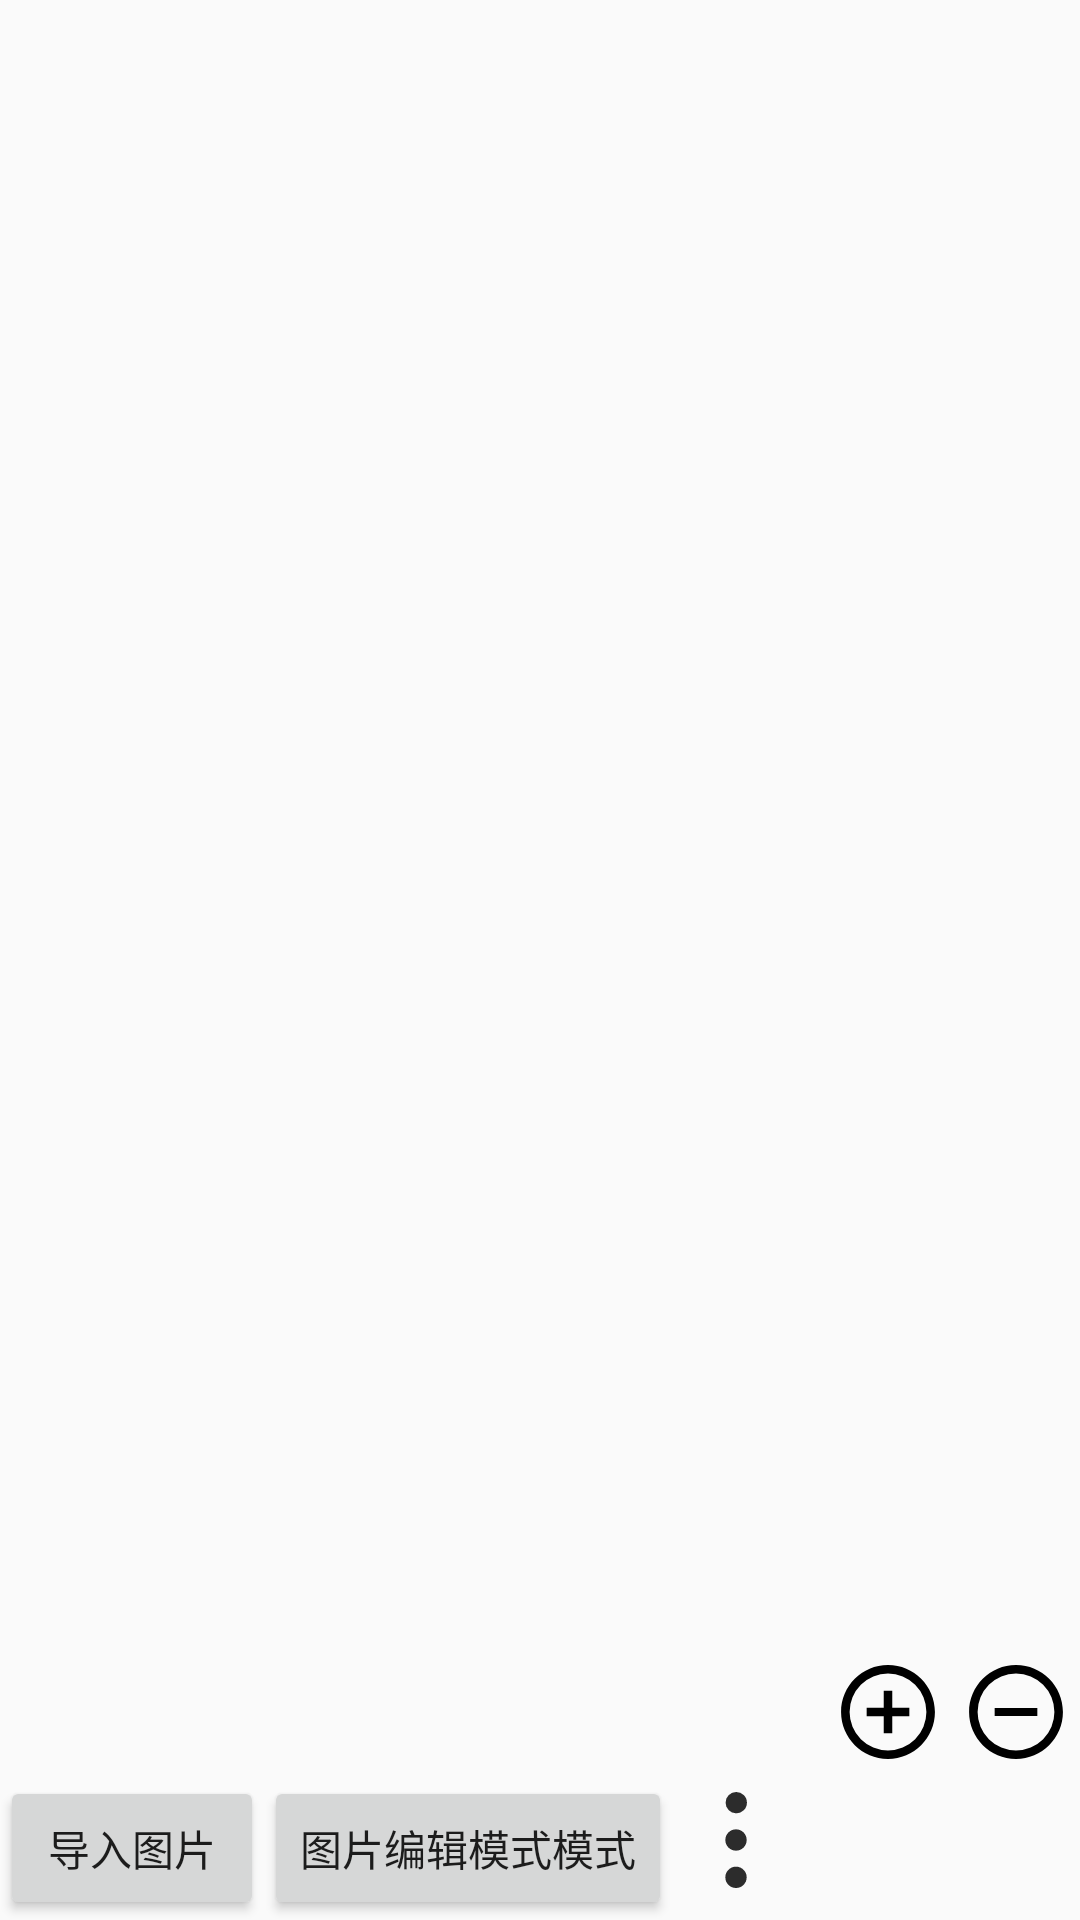

Icon bounding boxes for this 1080×1920 phone screenshot, format box=[x1, y1, x2, y2]:
add: box=[841, 1665, 935, 1759]
more: box=[725, 1792, 747, 1888]
zoom out: box=[969, 1665, 1063, 1759]
